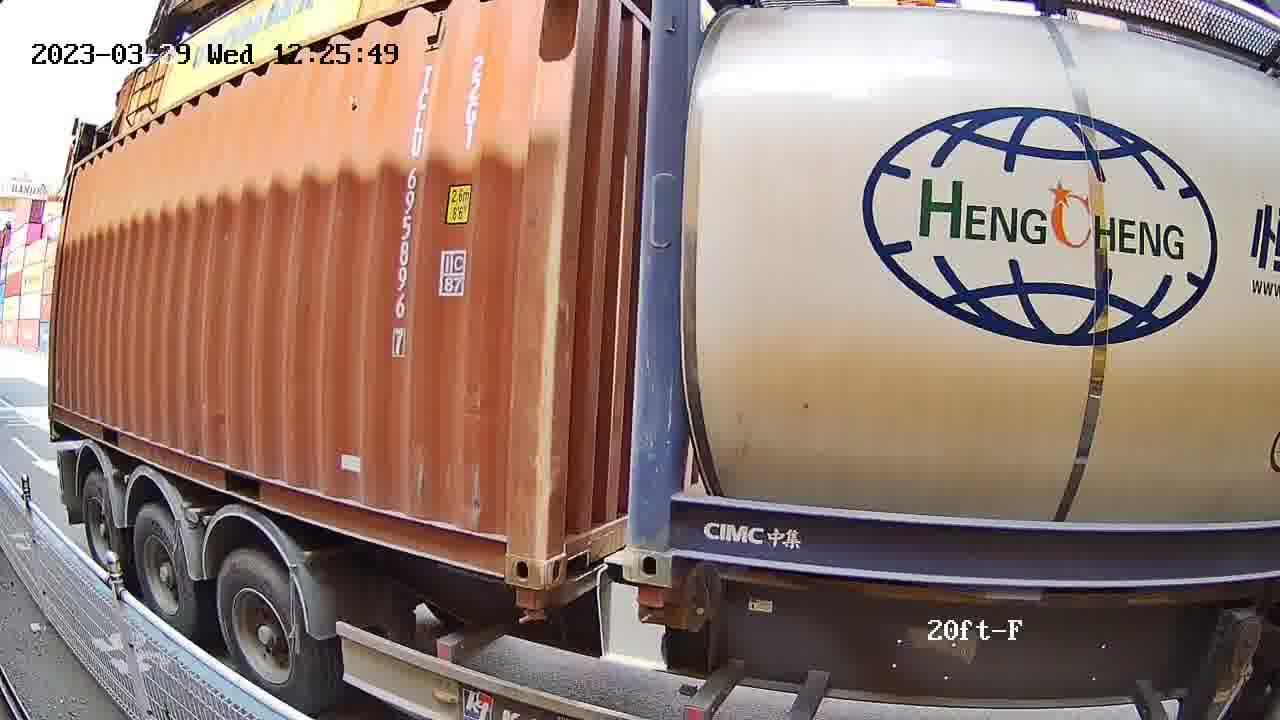Cone: (629, 580, 672, 624), (509, 584, 547, 623)
Hole_L: (624, 509, 714, 593), (545, 502, 595, 590)
Hole_R: (469, 503, 546, 589)
Tire: (218, 553, 314, 708), (136, 506, 194, 636), (85, 475, 125, 577)
